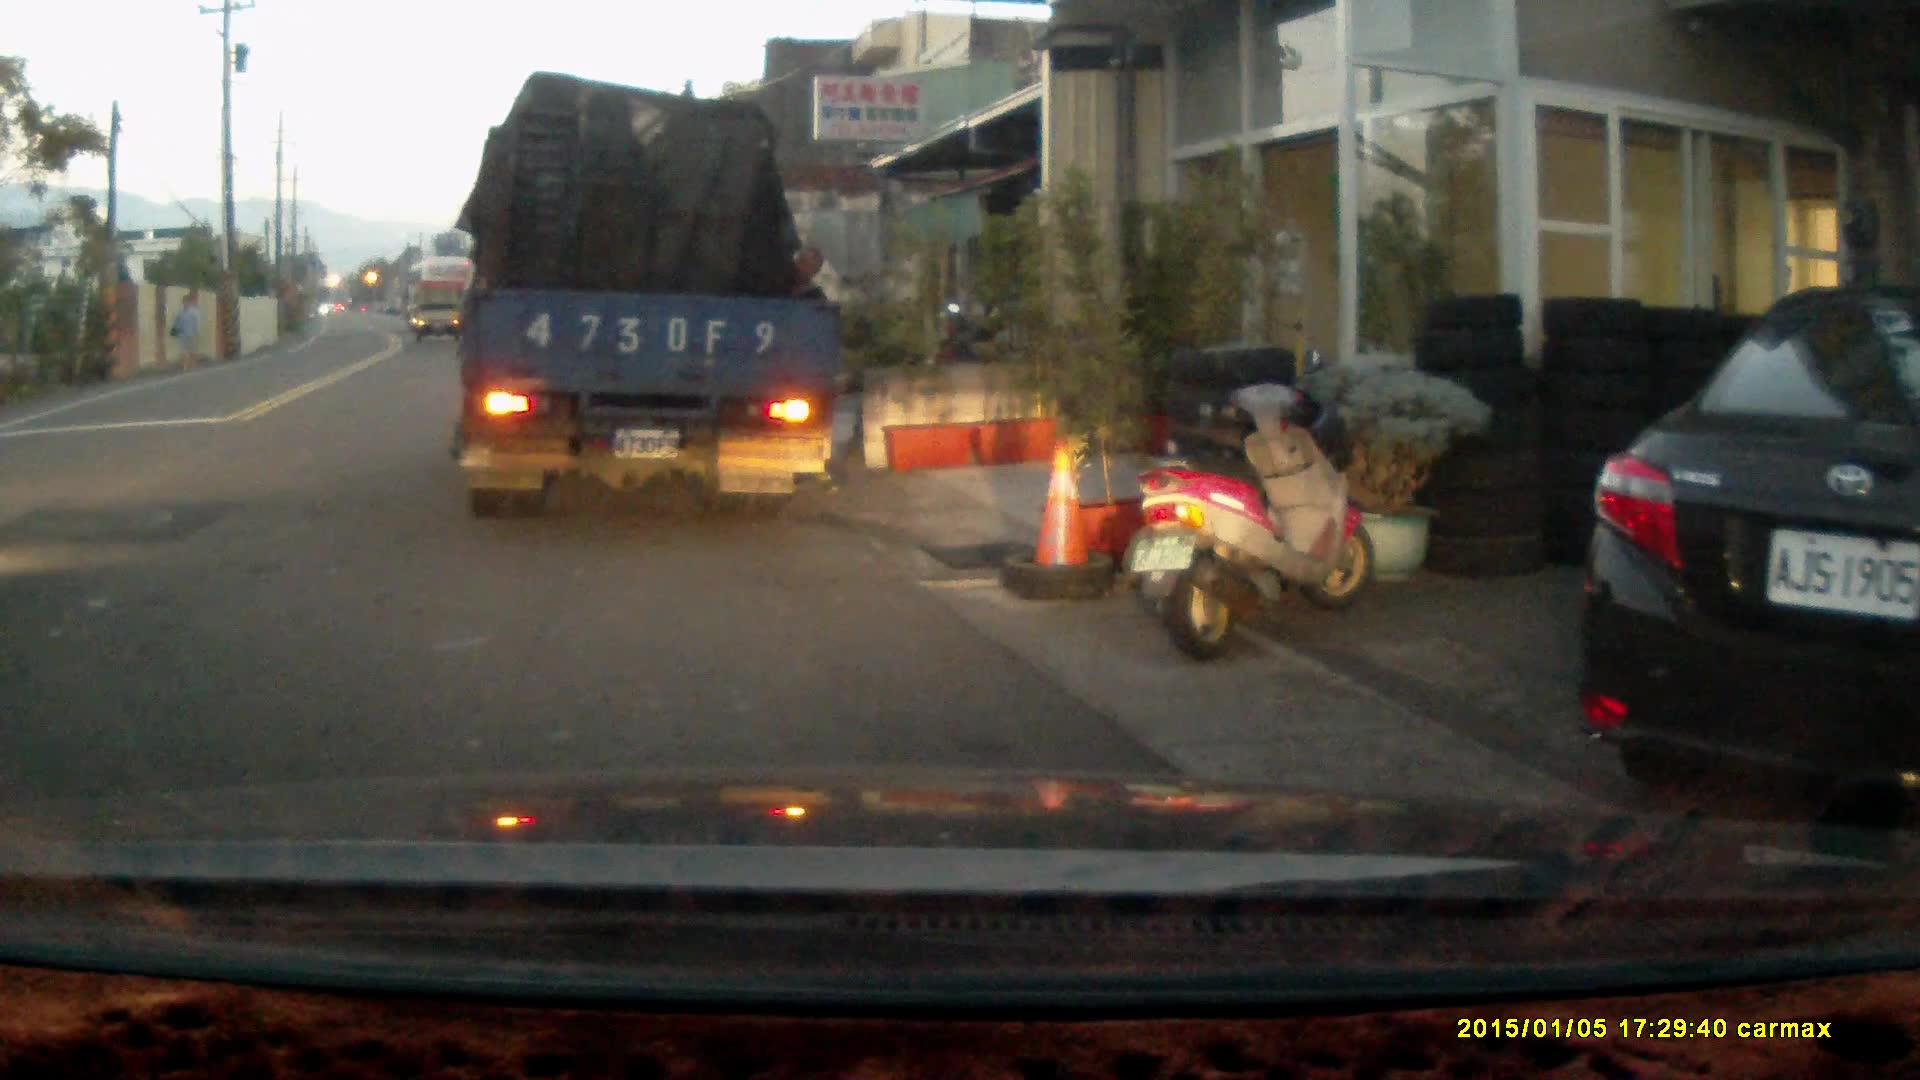pedestrian: (171, 290, 203, 364)
vehicle: (1572, 279, 1920, 838), (445, 83, 850, 506), (404, 252, 475, 333), (414, 286, 464, 341)
